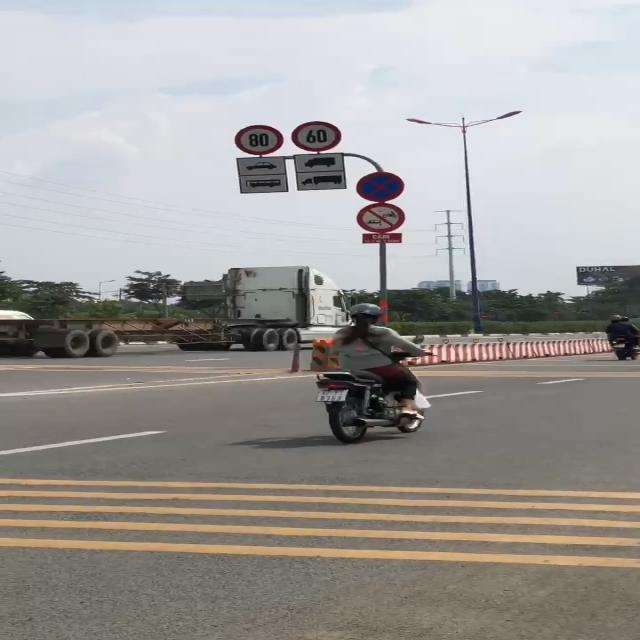Bien bao cam dung xe va do xe: (355, 171, 409, 202)
Bien bao toc do toi da cho phep: (289, 119, 349, 152), (231, 125, 284, 156)
